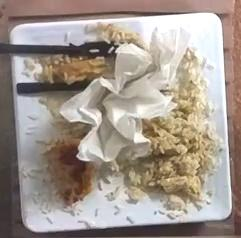pizza_crust: (44, 140, 96, 205)
rice: (122, 47, 218, 209)
